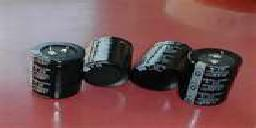Electrolytic-Capacitor: (26, 36, 85, 101), (182, 45, 236, 105), (135, 36, 188, 97), (87, 35, 132, 86)
